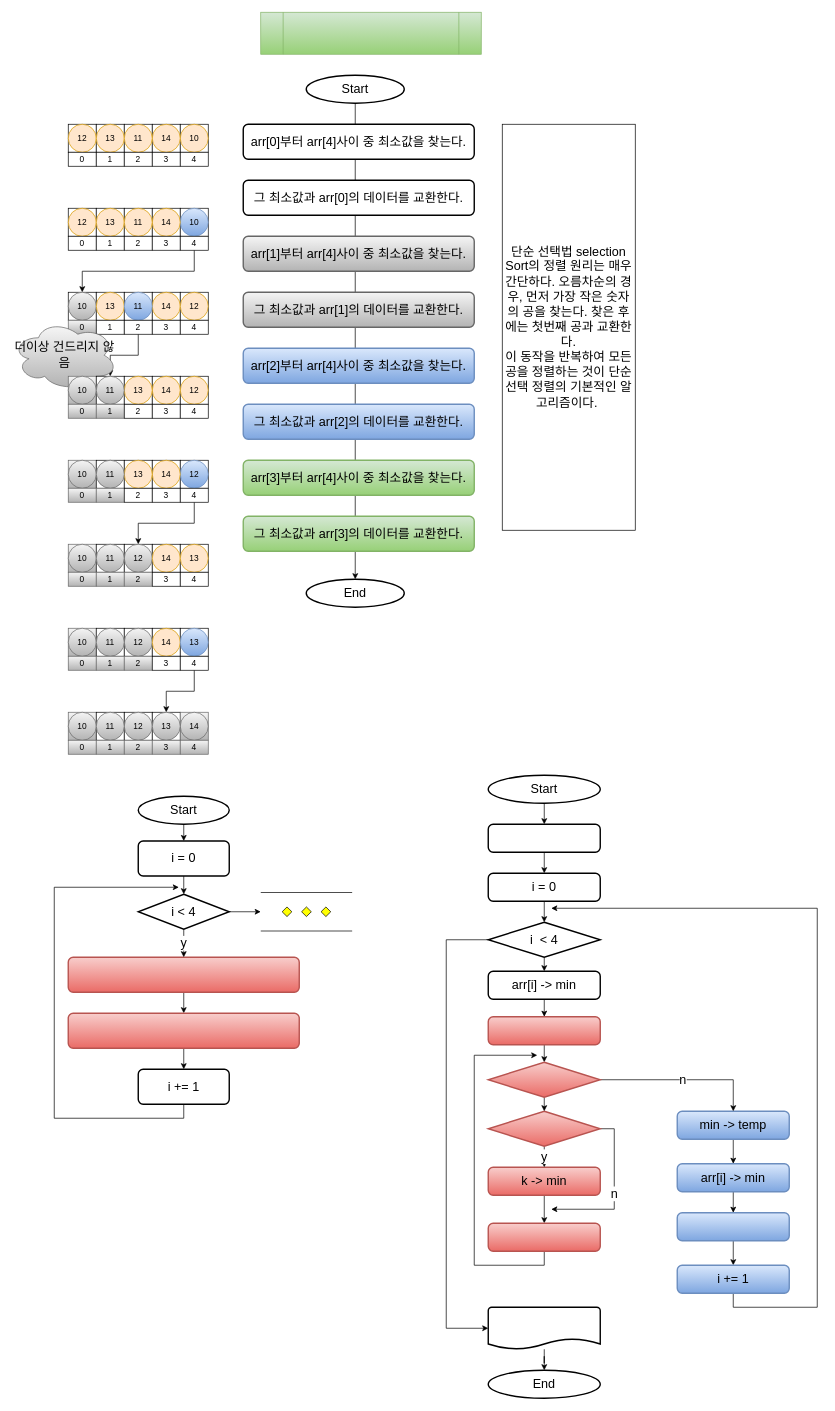
Some shapes in this 835 by 1411 pixel diagram are drawn without their labels. The shapes that lost their labels are listed below. From the top down, each one's centre as x and y in pixels, then its label:
At (x=370, y=33): "Selection Sort".
At (x=544, y=838): "arr[] = {12,13,11,14,10}".
At (x=183, y=974): "arr[i]부터 arr[4]사이 중 최소값을 찾는다.".
At (x=183, y=1030): "그 최소값과 arr[i]의 데이터를 교환한다.".
At (x=544, y=1030): "i + 1 -> k".
At (x=544, y=1079): "k < 5".
At (x=544, y=1128): "arr[k] < min".
At (x=544, y=1237): "k += 1".
At (x=733, y=1226): "temp -> arr[i]".
At (x=544, y=1328): "arr".
